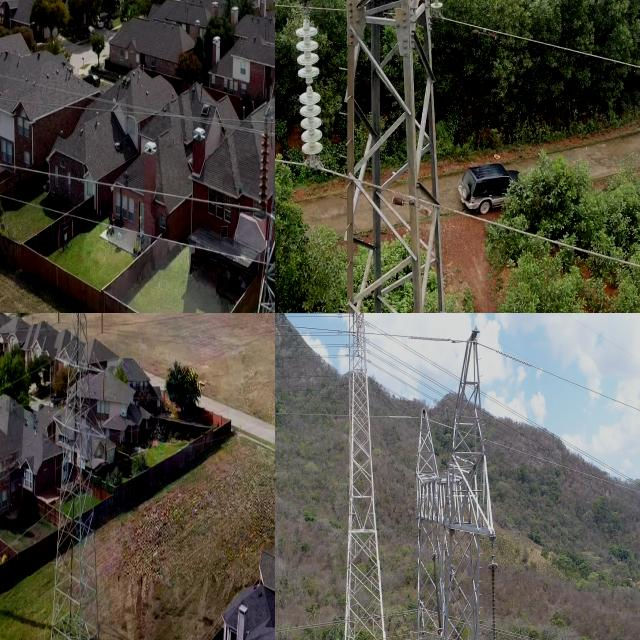杆塔: (284, 0, 463, 313), (43, 313, 114, 640), (330, 313, 398, 640), (409, 399, 478, 640)
正常电缆: (275, 157, 640, 275), (275, 0, 640, 86)
正常绝缘子: (290, 10, 325, 172), (256, 115, 272, 225), (487, 548, 504, 640), (430, 553, 444, 635), (102, 434, 108, 467), (101, 368, 106, 407), (98, 313, 104, 340), (54, 359, 58, 386), (55, 313, 61, 327)
绝缘子破损: (305, 78, 313, 92)
